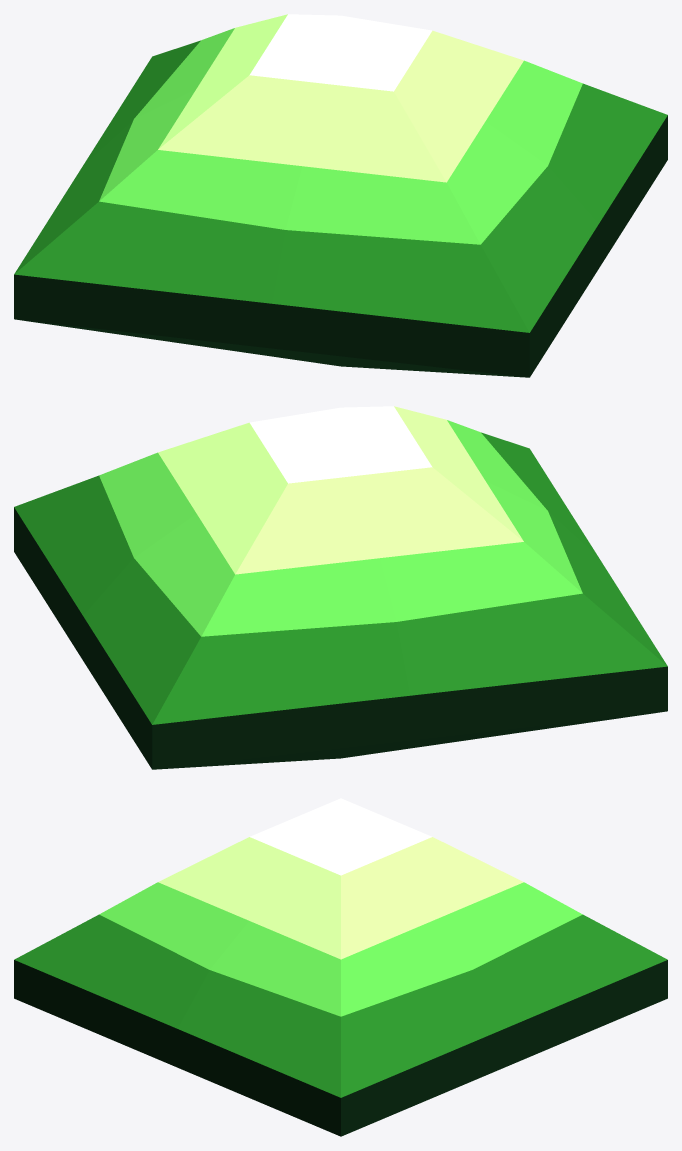
Rendered from tyrian10-32.glb.
3 renders of one model, top to bottom at view 1: azimuth 30°, elevation 25°; view 2: azimuth 150°, elevation 25°; view 3: azimuth 270°, elevation 25°, orthographic. The views are drawn at different scales.
Visible parts, largest first — view 1: tyrian10-32; view 2: tyrian10-32; view 3: tyrian10-32.
Part boxes in pixels (<box>): tyrian10-32: <box>14,14,667,377</box>; tyrian10-32: <box>14,406,667,769</box>; tyrian10-32: <box>14,798,667,1136</box>.
Size of the model in its own units: 0.9167 by 0.47 by 0.9167.
